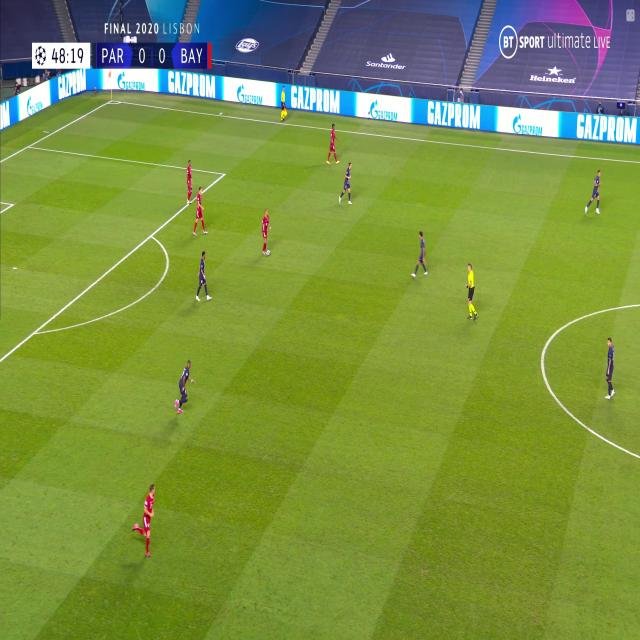ball: (266, 250, 270, 256)
player: (132, 480, 158, 559), (173, 358, 195, 414), (194, 250, 211, 303), (411, 229, 429, 278), (603, 334, 616, 401), (464, 260, 478, 322), (584, 168, 602, 216), (192, 184, 207, 237), (338, 160, 354, 206), (325, 121, 341, 166), (260, 207, 272, 258), (184, 157, 195, 205), (278, 86, 288, 121)
